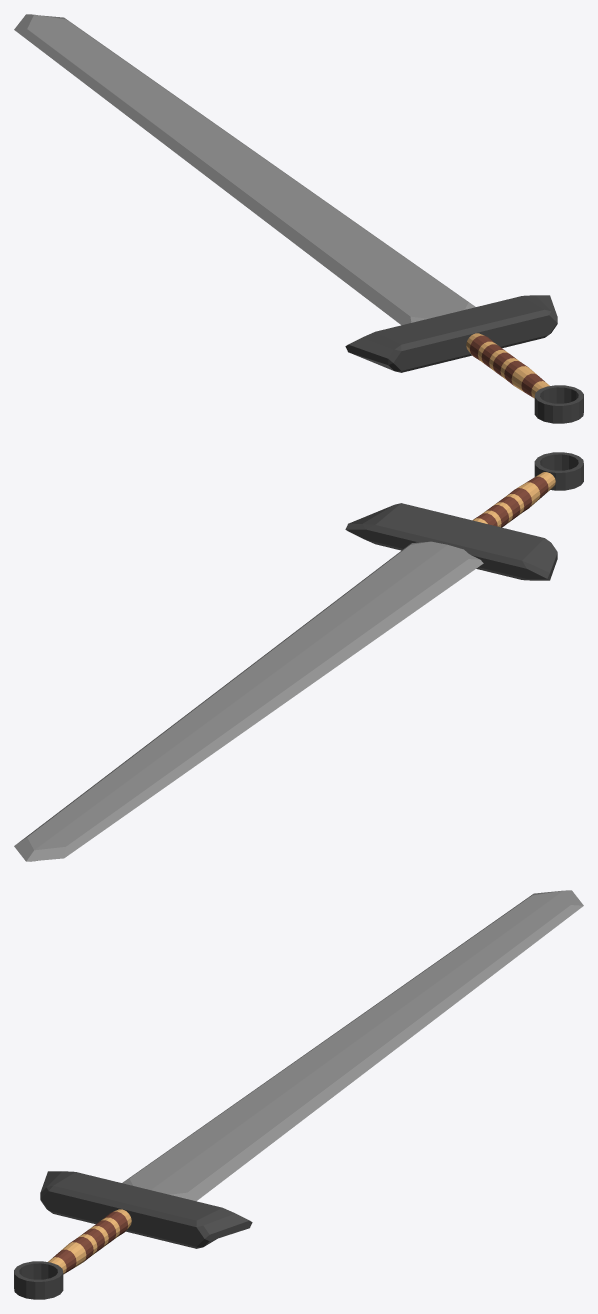
3 views of the same model, one above another, from view 1: azimuth 30°, elevation 25°; view 2: azimuth 150°, elevation 25°; view 3: azimuth 330°, elevation 25° (orthographic).
Parts seen in each view (by area): view 1: 5; view 2: 5; view 3: 5.
Boxes of the visible parts, <box> form: 5: <box>14,14,583,423</box>; 5: <box>14,452,583,861</box>; 5: <box>14,890,583,1299</box>.
Size of the model in its own units: 15.99 by 2.13 by 74.87.
